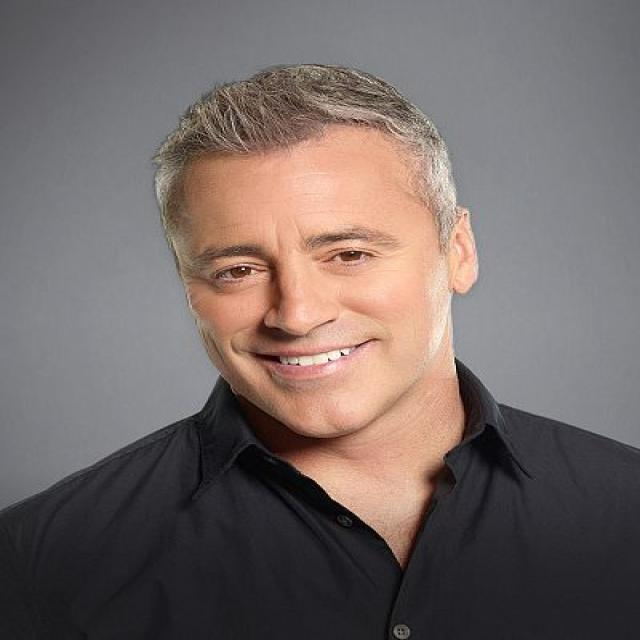mobile_phonerotation: (1, 62, 636, 638)
